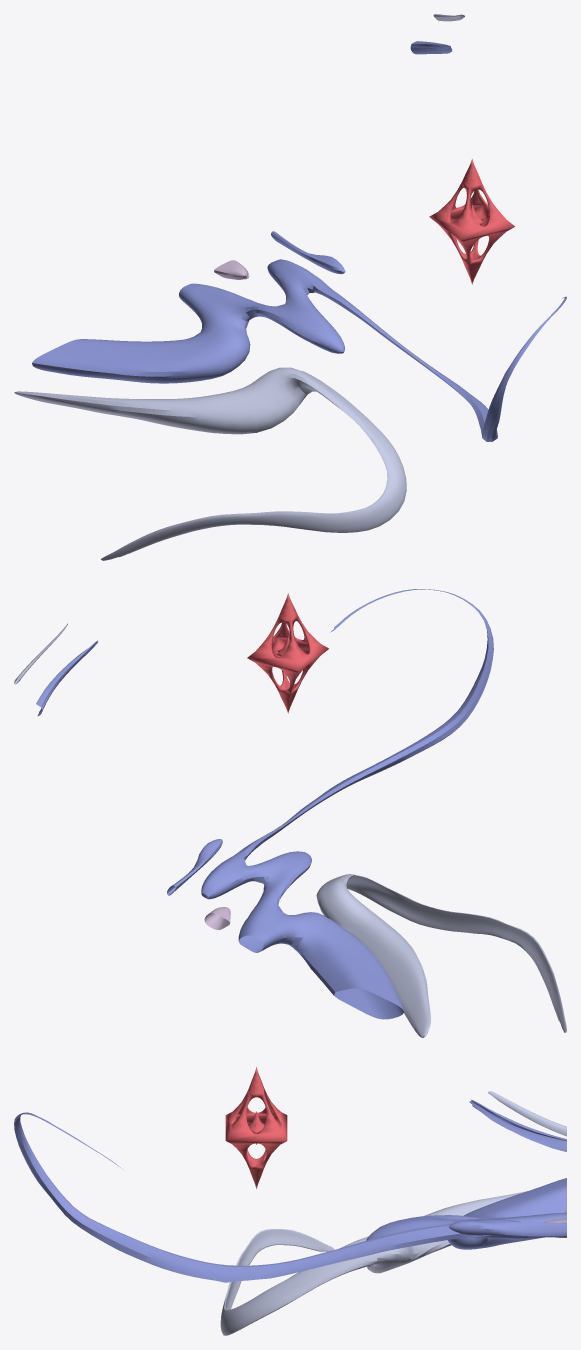
Rendered from SM_Butterfly_Behind_LB_7.fbx.
3 views of the same model, one above another, from view 1: azimuth 30°, elevation 25°; view 2: azimuth 150°, elevation 25°; view 3: azimuth 270°, elevation 25° (orthographic). The views are drawn at different scales.
Visible parts, largest first — view 1: 7; view 2: 7; view 3: 7.
Part boxes in pixels (x1=…): 7: x1=14, y1=14, x2=566, y2=560; 7: x1=14, y1=589, x2=566, y2=1037; 7: x1=14, y1=1067, x2=566, y2=1335.
Size of the model in its own units: 127 by 100 by 136.
